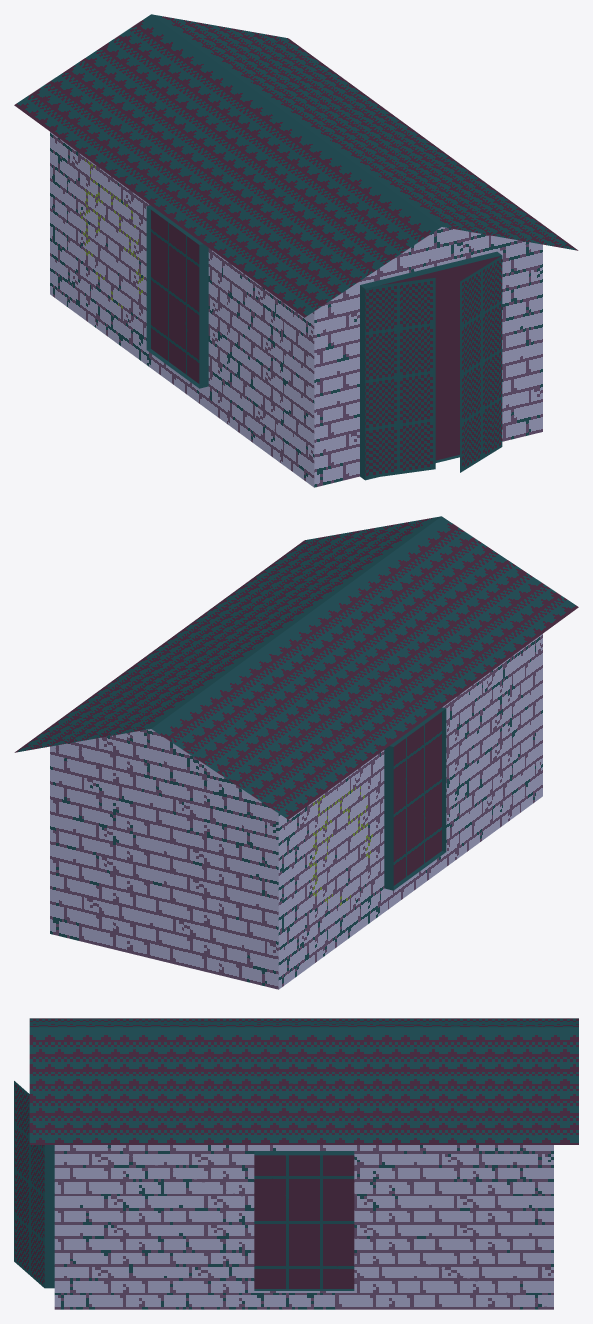
Rendered from storage.glb.
3 renders of one model, top to bottom at view 1: azimuth 30°, elevation 25°; view 2: azimuth 150°, elevation 25°; view 3: azimuth 270°, elevation 25°, orthographic. The views are drawn at different scales.
Visible parts, largest first — view 1: storage; view 2: storage; view 3: storage.
Boxes of the visible parts, x1,y1,x2,y2 form: storage: (14,14,578,487); storage: (14,516,578,989); storage: (14,1018,578,1309).
Bounding box in the file's own units: 6 × 5.07 × 11.31.
1 material, 1 textured.
